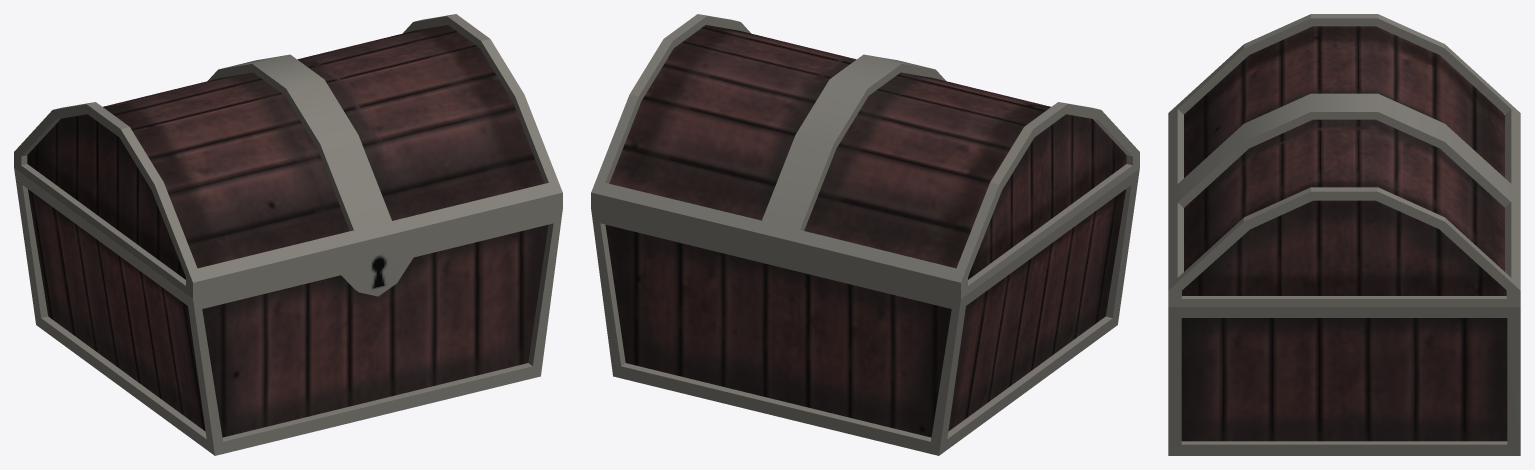
The model's file is Chest02.FBX.
The picture shows the model from 3 angles, left to right: view 1: azimuth 30°, elevation 25°; view 2: azimuth 150°, elevation 25°; view 3: azimuth 270°, elevation 25°; orthographic projection.
Visible parts, largest first — view 1: chest_base01, chest_base; view 2: chest_base01, chest_base; view 3: chest_base01, chest_base.
Boxes of the visible parts, box(x1,y1,x2,y2) form: chest_base01: box(14, 14, 562, 298); chest_base: box(14, 168, 562, 455); chest_base01: box(591, 14, 1139, 298); chest_base: box(591, 168, 1139, 455); chest_base01: box(1168, 14, 1520, 306); chest_base: box(1168, 307, 1520, 455).
Bounding box in the file's own units: 75.46 × 54.42 × 63.22.
Materials: 2 (2 with a texture image).
